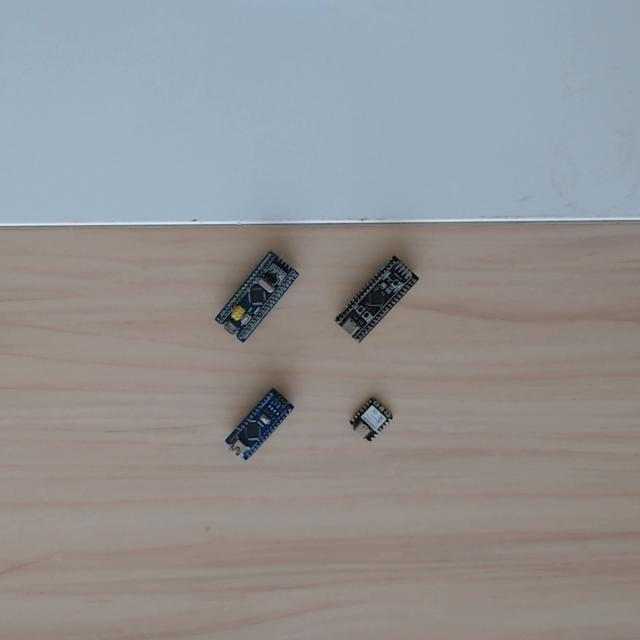Arduino-Nano: (220, 387, 299, 468)
ESP32C3-Xiao: (343, 393, 398, 448)
STM32-Blackpill: (332, 254, 424, 347)
STM32-Bluepill: (211, 249, 303, 348)
